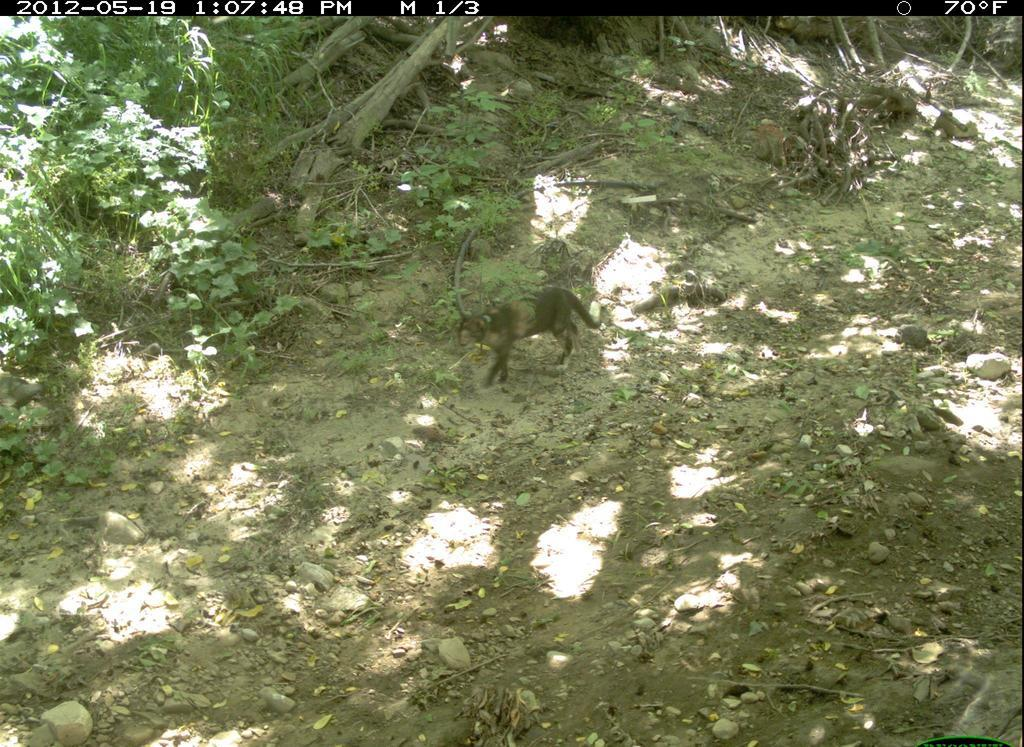cat: (433, 290, 616, 386)
